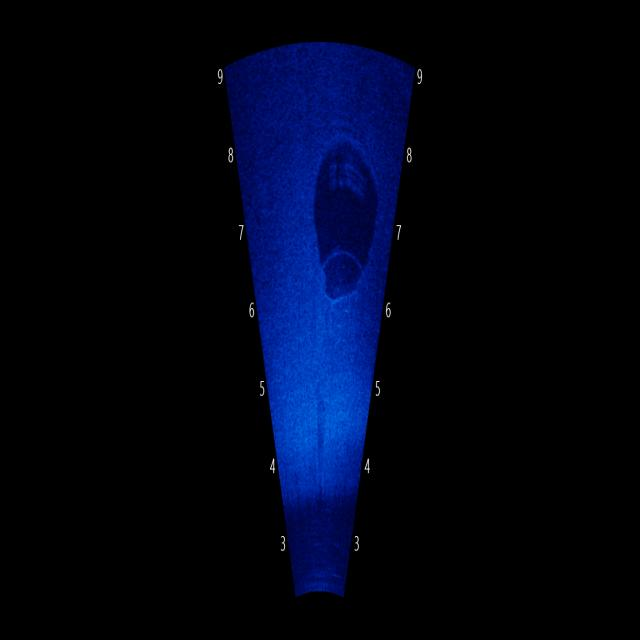circle: (308, 131, 379, 307)
